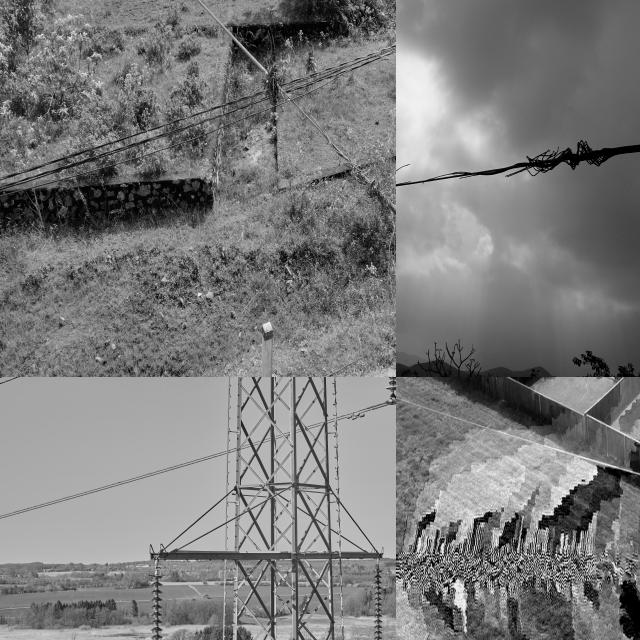杆塔: (224, 377, 355, 640)
正常电缆: (0, 398, 393, 522)
正常绝缘子: (145, 569, 174, 640), (370, 564, 391, 640)
电缆破损: (245, 39, 396, 240), (396, 124, 626, 220)
